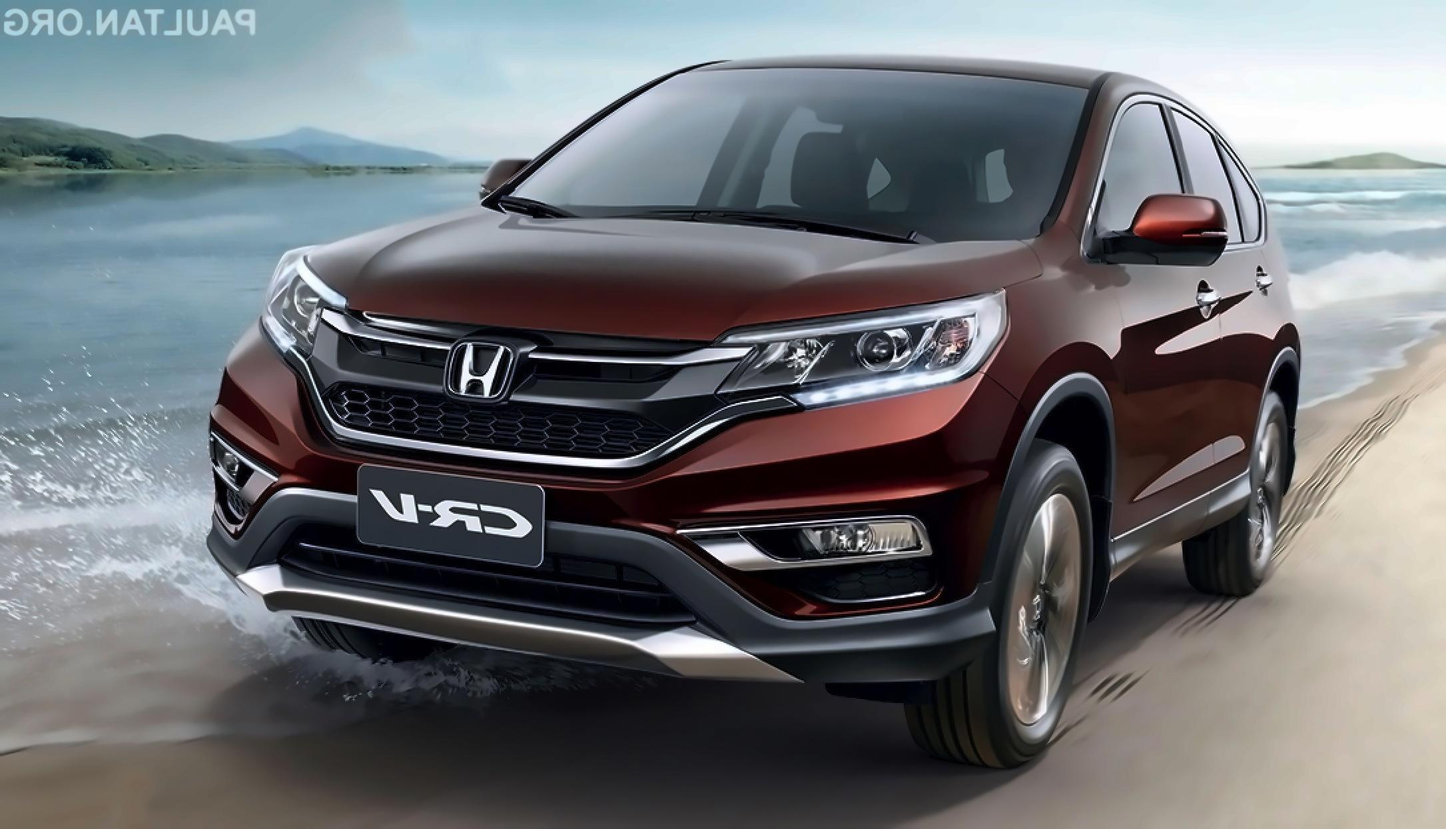Car hood: (295, 201, 1045, 342)
Fender - -F-L-: (963, 219, 1145, 604)
Front bumper: (204, 321, 1025, 702)
Headlight - -L-: (717, 292, 1007, 409)
Headlight - -R-: (257, 244, 325, 369)
Passenger-s door - -F-L-: (1070, 64, 1223, 600)
Passenger-s door - -R-L-: (1162, 76, 1281, 553)
Side bumper - -L-: (1096, 460, 1266, 627)
Side mirror - -L-: (1083, 193, 1224, 276)
Side mirror - -R-: (476, 155, 537, 215)
